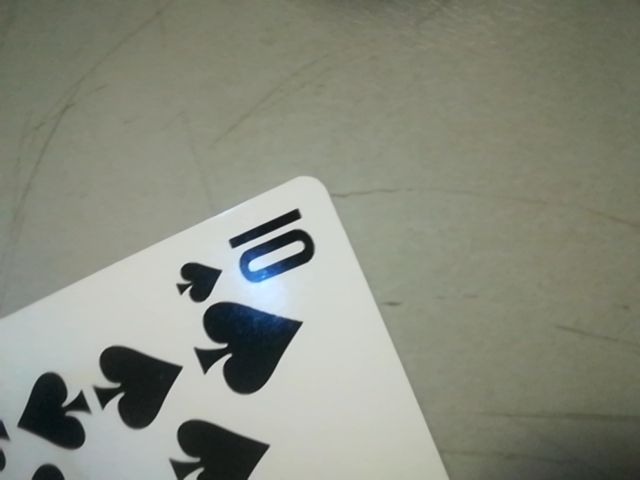ht 10: (182, 201, 335, 299)
